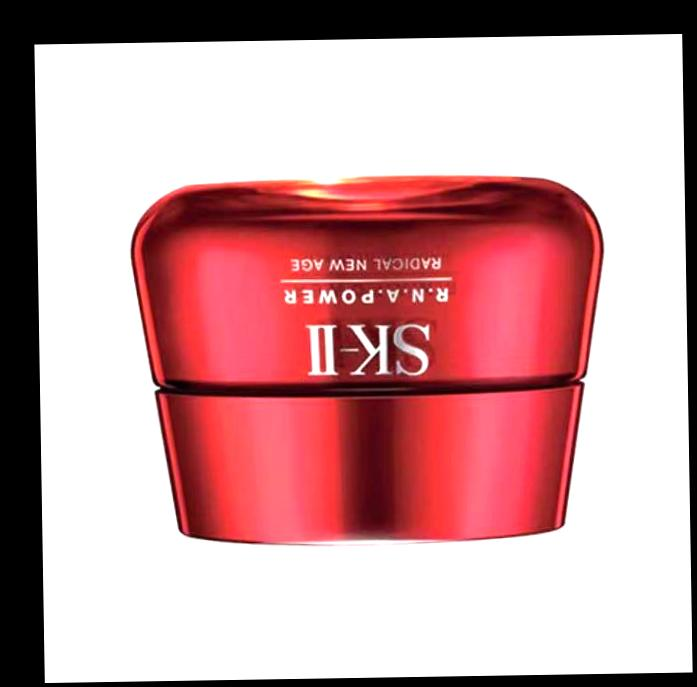cosmetic: (142, 185, 594, 545)
